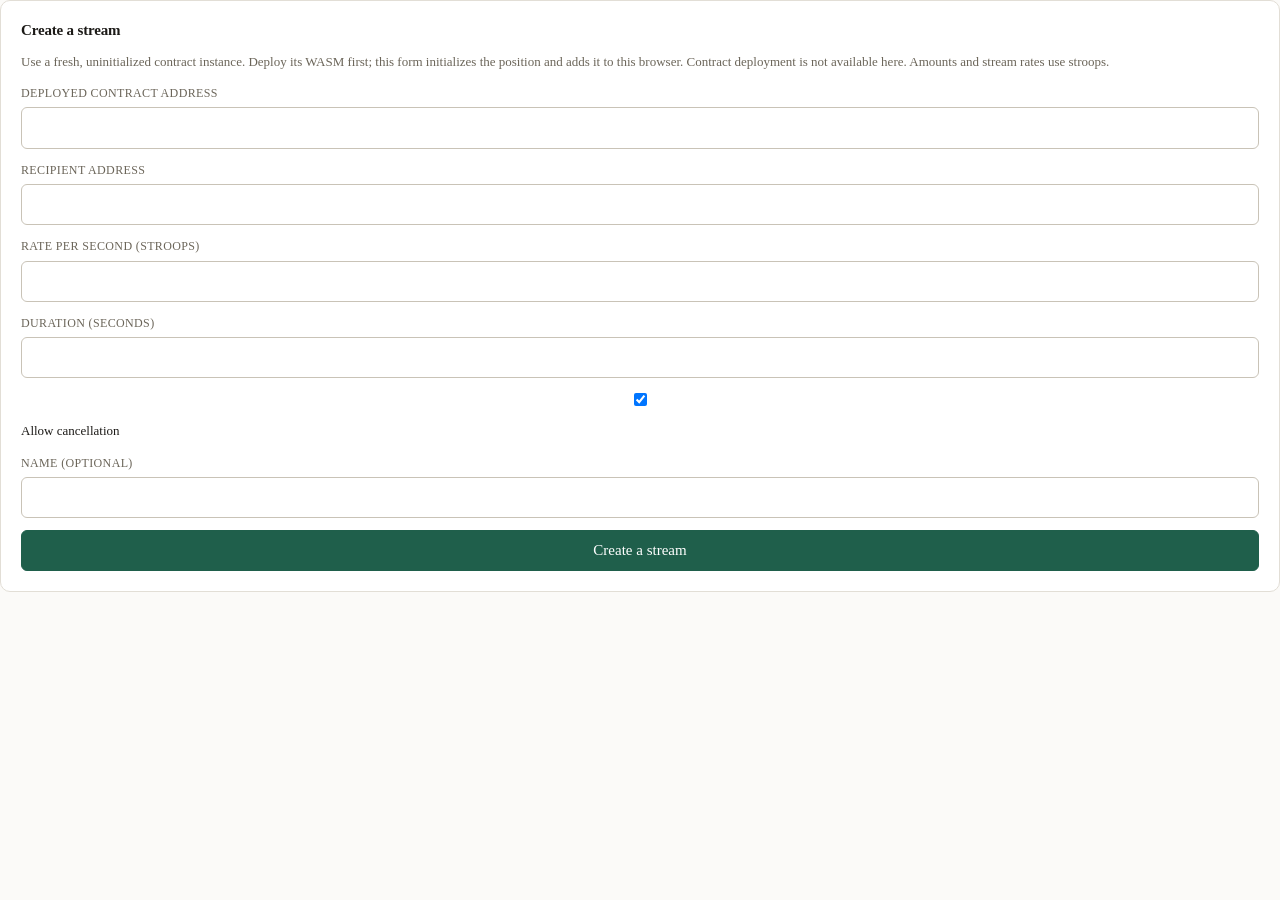
Test: CreatePositionForm validation & inline errors (#293) › clears field inline error when user types into the field
The width and height of the screenshot is (1280, 900).
Click the button "Create a stream" at (640, 551), box [21,530,1259,572]
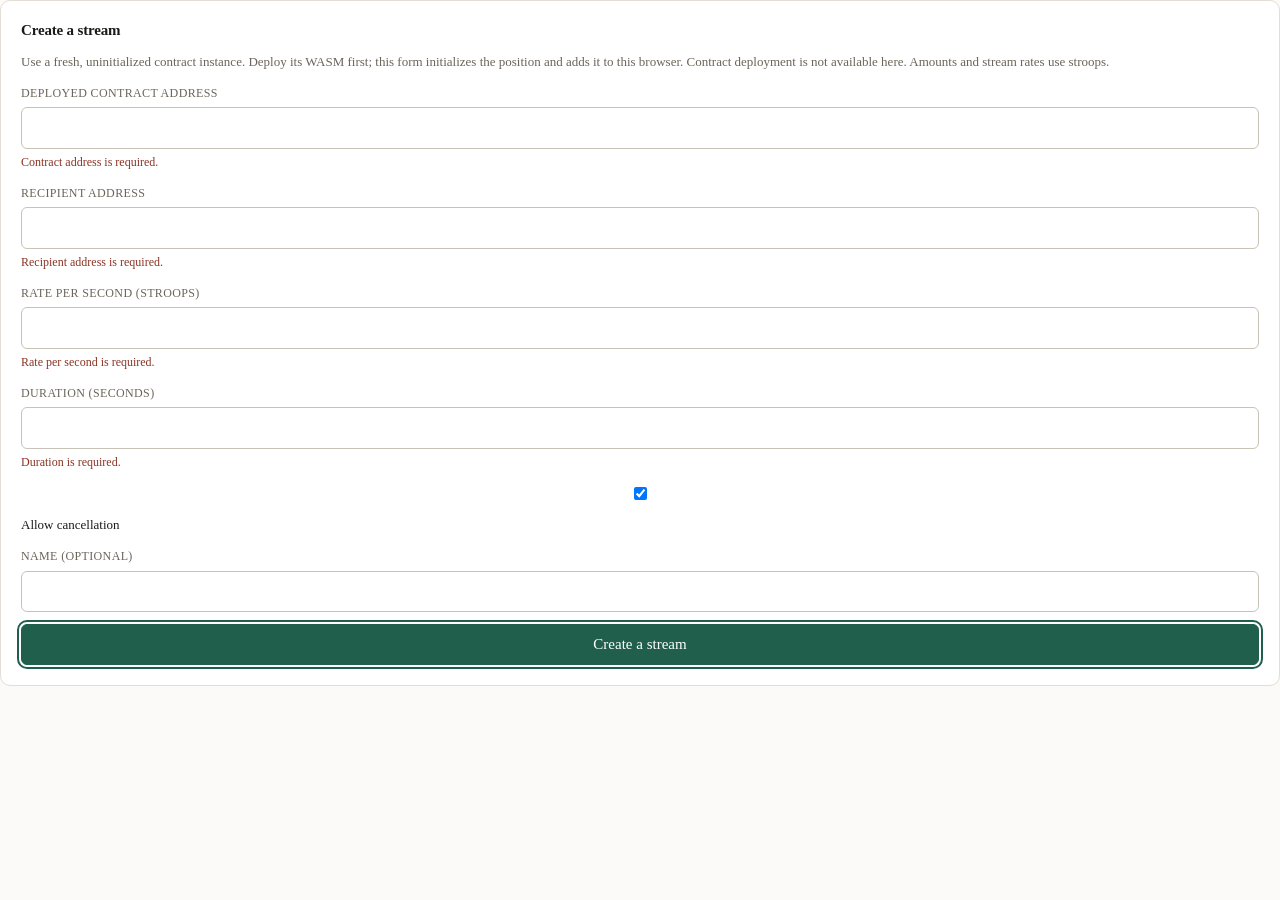
Result: the text "Contract address is required." is shown at [21,155,158,169]
Type "C" into the field labelled "Deployed contract address" at (640, 128), box [21,107,1259,149]
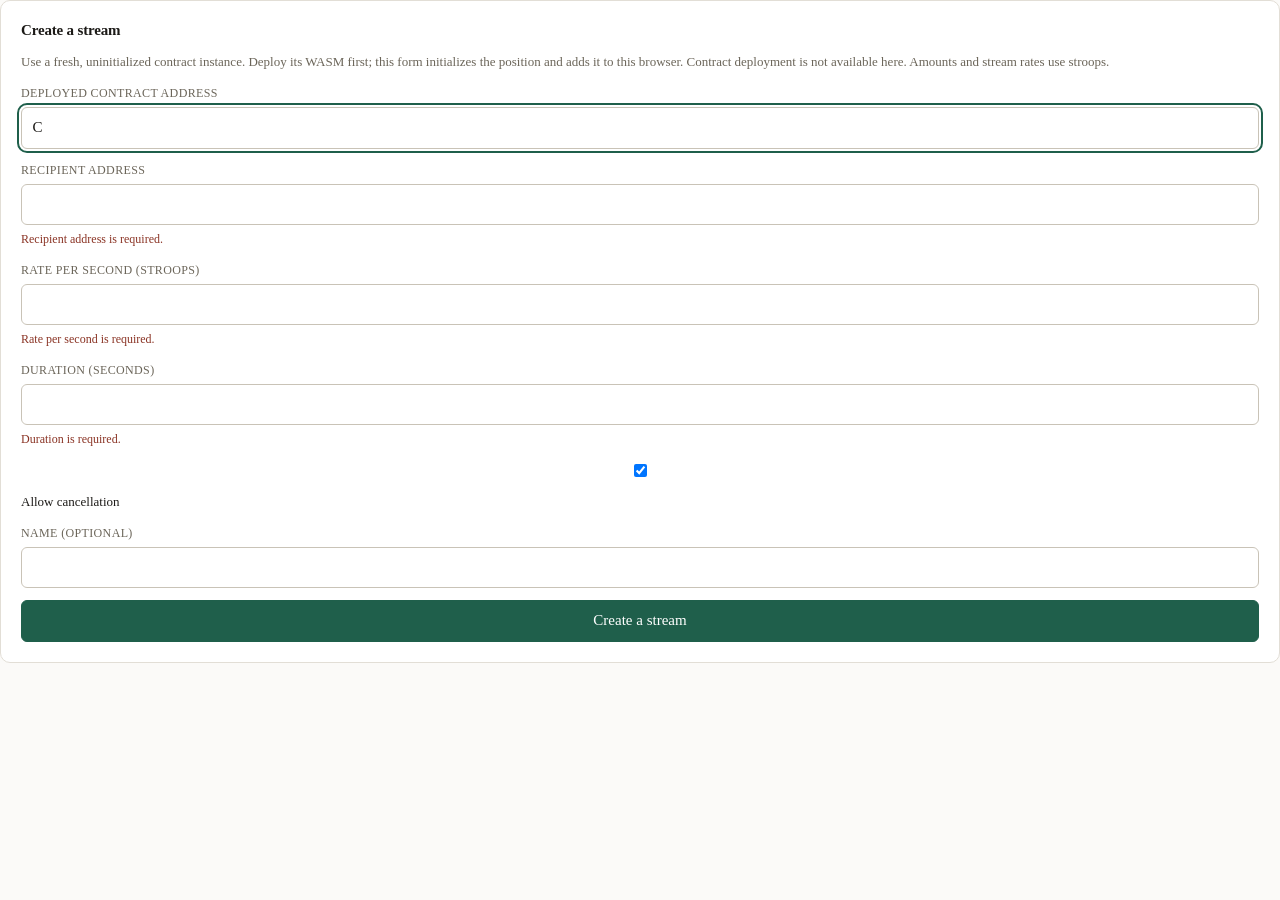
Result: the text "Contract address is required." is gone
